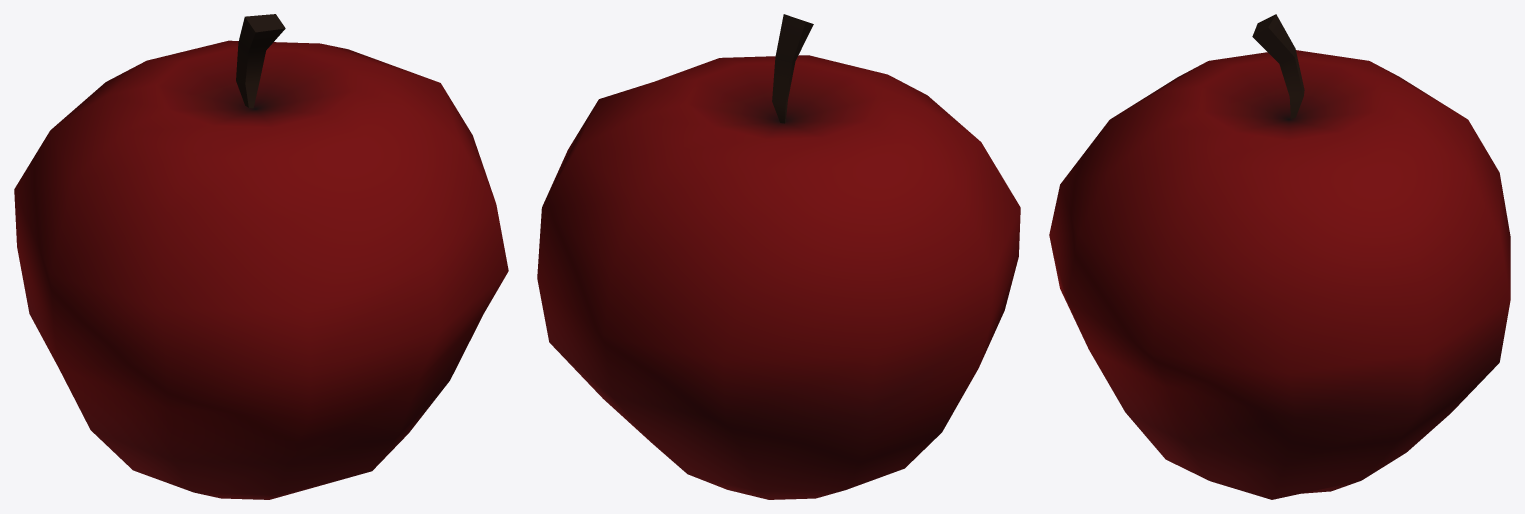
File: redApple.fbx
The picture shows the model from 3 angles, left to right: view 1: azimuth 30°, elevation 25°; view 2: azimuth 150°, elevation 25°; view 3: azimuth 270°, elevation 25°; orthographic projection. The views are drawn at different scales.
Visible parts, largest first — view 1: apple3; view 2: apple3; view 3: apple3.
Boxes of the visible parts, x1,y1,x2,y2 form: apple3: [14, 14, 508, 499]; apple3: [537, 14, 1020, 499]; apple3: [1049, 14, 1510, 499].
Bounding box in the file's own units: 146 × 147 × 139.
